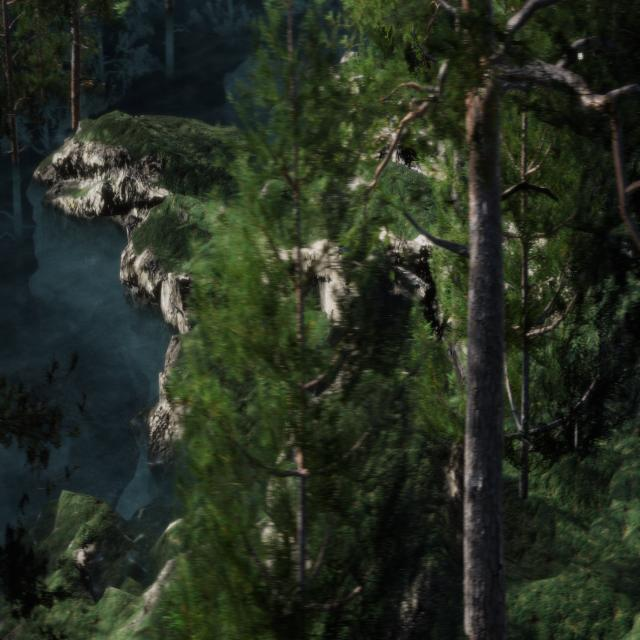Human: (299, 302, 367, 428)
